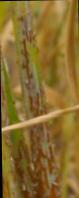Wheat: (35, 129, 55, 198), (15, 149, 31, 198)
